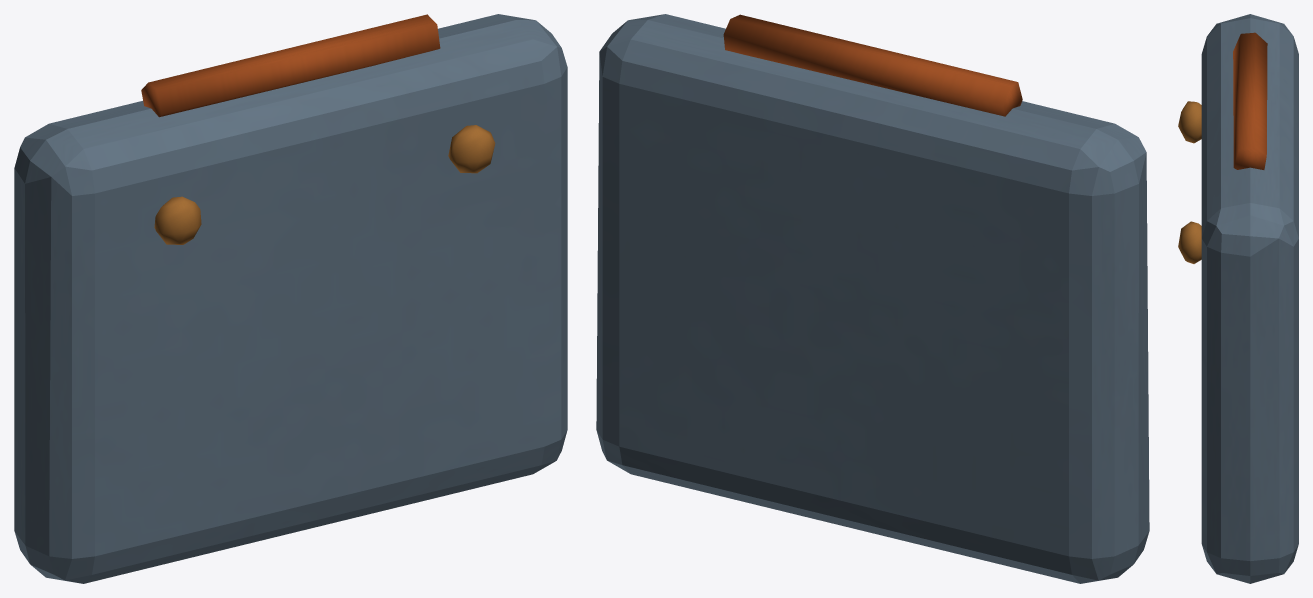
Rendered from SM_iron_shield_fragment_LOD1.fbx.
The picture shows the model from 3 angles, left to right: view 1: azimuth 30°, elevation 25°; view 2: azimuth 150°, elevation 25°; view 3: azimuth 270°, elevation 25°; orthographic projection. The views are drawn at different scales.
Parts seen in each view (by area): view 1: SM_iron_shield_fragment_LOD1; view 2: SM_iron_shield_fragment_LOD1; view 3: SM_iron_shield_fragment_LOD1.
Boxes of the visible parts, box(x1,y1,x2,y2) form: SM_iron_shield_fragment_LOD1: box(14, 14, 567, 583); SM_iron_shield_fragment_LOD1: box(596, 14, 1149, 583); SM_iron_shield_fragment_LOD1: box(1178, 14, 1298, 583).
Bounding box in the file's own units: 0.3621 × 0.0845 × 0.3073.
